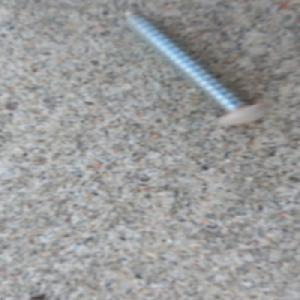Screw: (119, 7, 269, 127)
